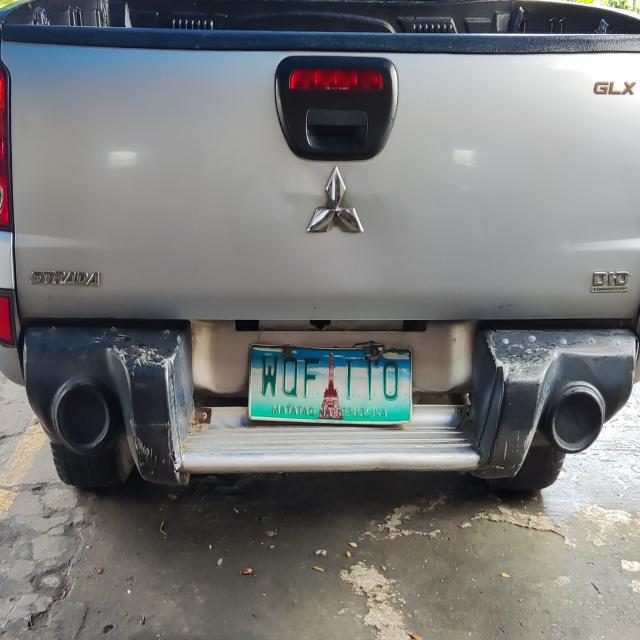plate: (246, 340, 415, 427)
